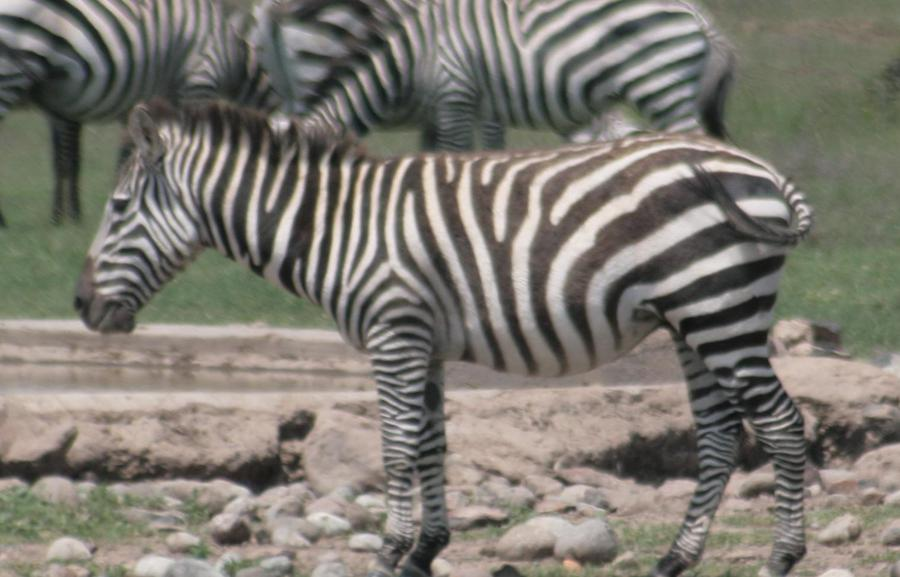zebra_plains: (301, 107, 794, 390)
